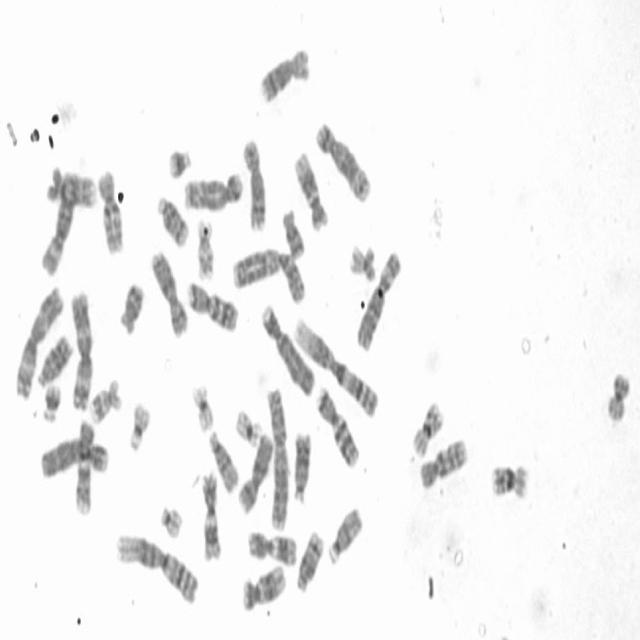A1: (291, 311, 382, 420), (112, 525, 200, 607)
A2: (228, 238, 307, 305), (262, 380, 290, 532)
A3: (11, 278, 65, 401), (67, 284, 94, 412)
B4: (258, 295, 318, 400), (38, 431, 111, 480)
B5: (312, 115, 372, 204), (181, 165, 244, 211)
C10: (416, 430, 469, 491), (95, 162, 127, 258)
C11: (198, 466, 224, 564), (244, 525, 298, 567)
C12: (290, 143, 329, 232), (238, 556, 287, 613)
C6: (354, 242, 404, 352), (38, 165, 80, 277)
C7: (313, 379, 361, 469), (183, 273, 239, 334)
C8: (256, 40, 312, 106), (240, 131, 268, 233)
C9: (70, 413, 96, 517), (45, 163, 98, 210)
D13: (34, 328, 74, 389), (289, 424, 314, 504)
D14: (153, 187, 191, 249), (294, 523, 325, 594)
D15: (325, 499, 364, 567), (206, 424, 240, 494)
E16: (408, 394, 444, 459), (486, 454, 532, 502)
E17: (87, 370, 122, 425), (193, 212, 216, 282)
E18: (116, 274, 146, 336), (278, 202, 308, 261)
F19: (188, 376, 216, 434), (232, 402, 264, 448)
F20: (603, 363, 632, 425), (346, 237, 378, 282)
G21: (164, 140, 193, 181), (39, 377, 63, 425)
G22: (125, 395, 152, 453), (156, 498, 184, 540)
X: (148, 243, 191, 339), (234, 426, 275, 515)
